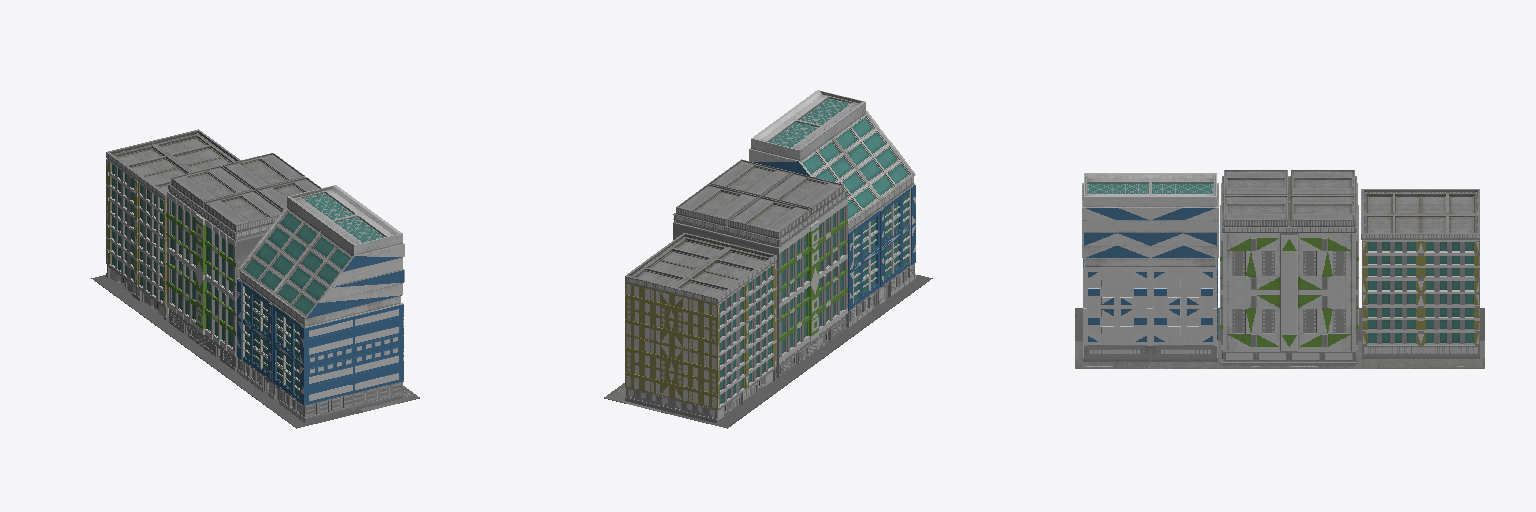
3 views of the same model, side by side, from view 1: azimuth 30°, elevation 25°; view 2: azimuth 150°, elevation 25°; view 3: azimuth 270°, elevation 25° (orthographic).
Visible parts, largest first — view 1: defaultMaterial; view 2: defaultMaterial; view 3: defaultMaterial.
Boxes of the visible parts, x1=… form: defaultMaterial: x1=91, y1=129, x2=419, y2=428; defaultMaterial: x1=604, y1=90, x2=932, y2=428; defaultMaterial: x1=1075, y1=170, x2=1484, y2=368.
Size of the model in its own units: 65.11 by 82.54 by 186.
Materials: 1 (1 with a texture image).